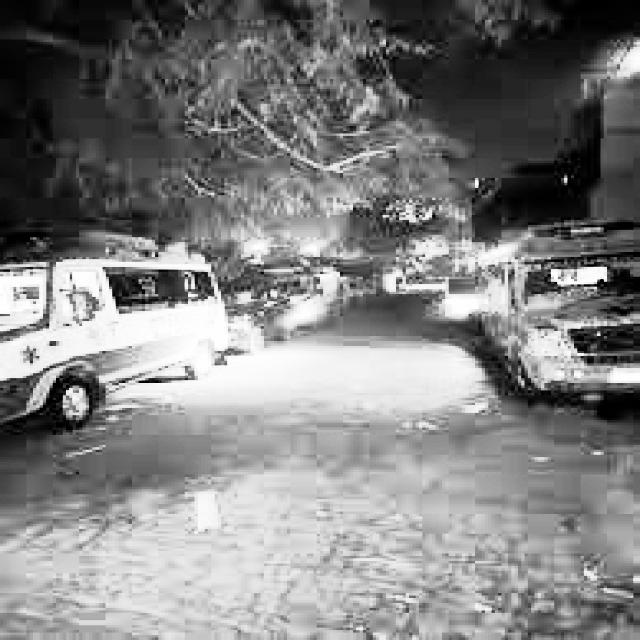Ambulance: (6, 195, 228, 432), (458, 212, 634, 422)
